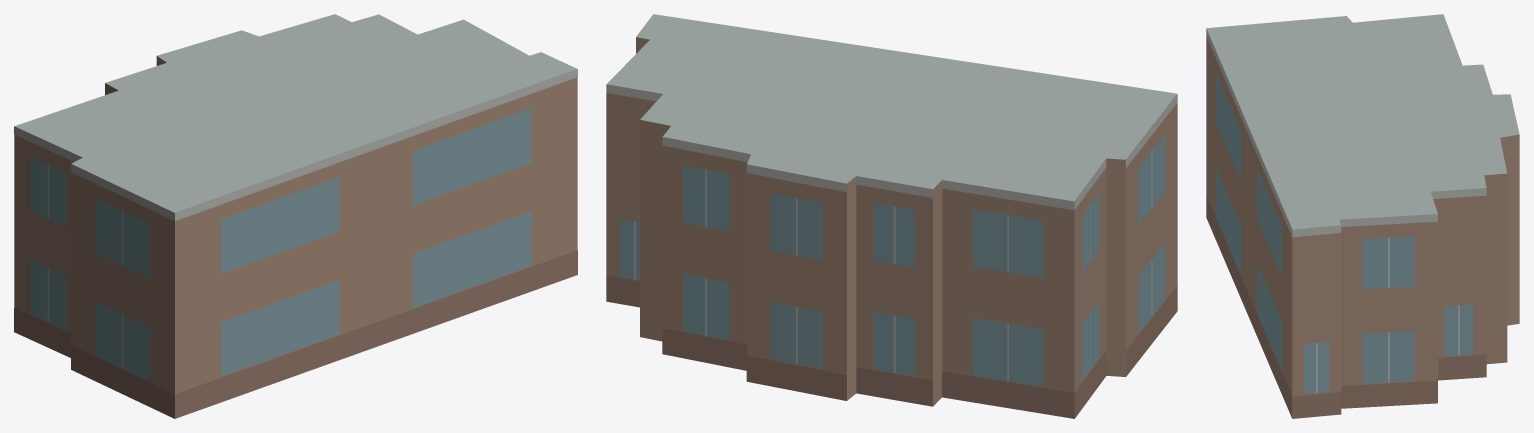
File: survey-upis-32481786.glb
3 renders of one model, left to right at view 1: azimuth 30°, elevation 25°; view 2: azimuth 150°, elevation 25°; view 3: azimuth 270°, elevation 25°, orthographic. The views are drawn at different scales.
Visible parts, largest first — view 1: survey-upis-32481786.tmp; view 2: survey-upis-32481786.tmp; view 3: survey-upis-32481786.tmp.
Boxes of the visible parts, left/top/right/bottom form: survey-upis-32481786.tmp: left=14, top=14, right=577, bottom=418; survey-upis-32481786.tmp: left=606, top=14, right=1177, bottom=418; survey-upis-32481786.tmp: left=1206, top=14, right=1519, bottom=418.
Bounding box in the file's own units: 14.93 × 6.1 × 9.17.
